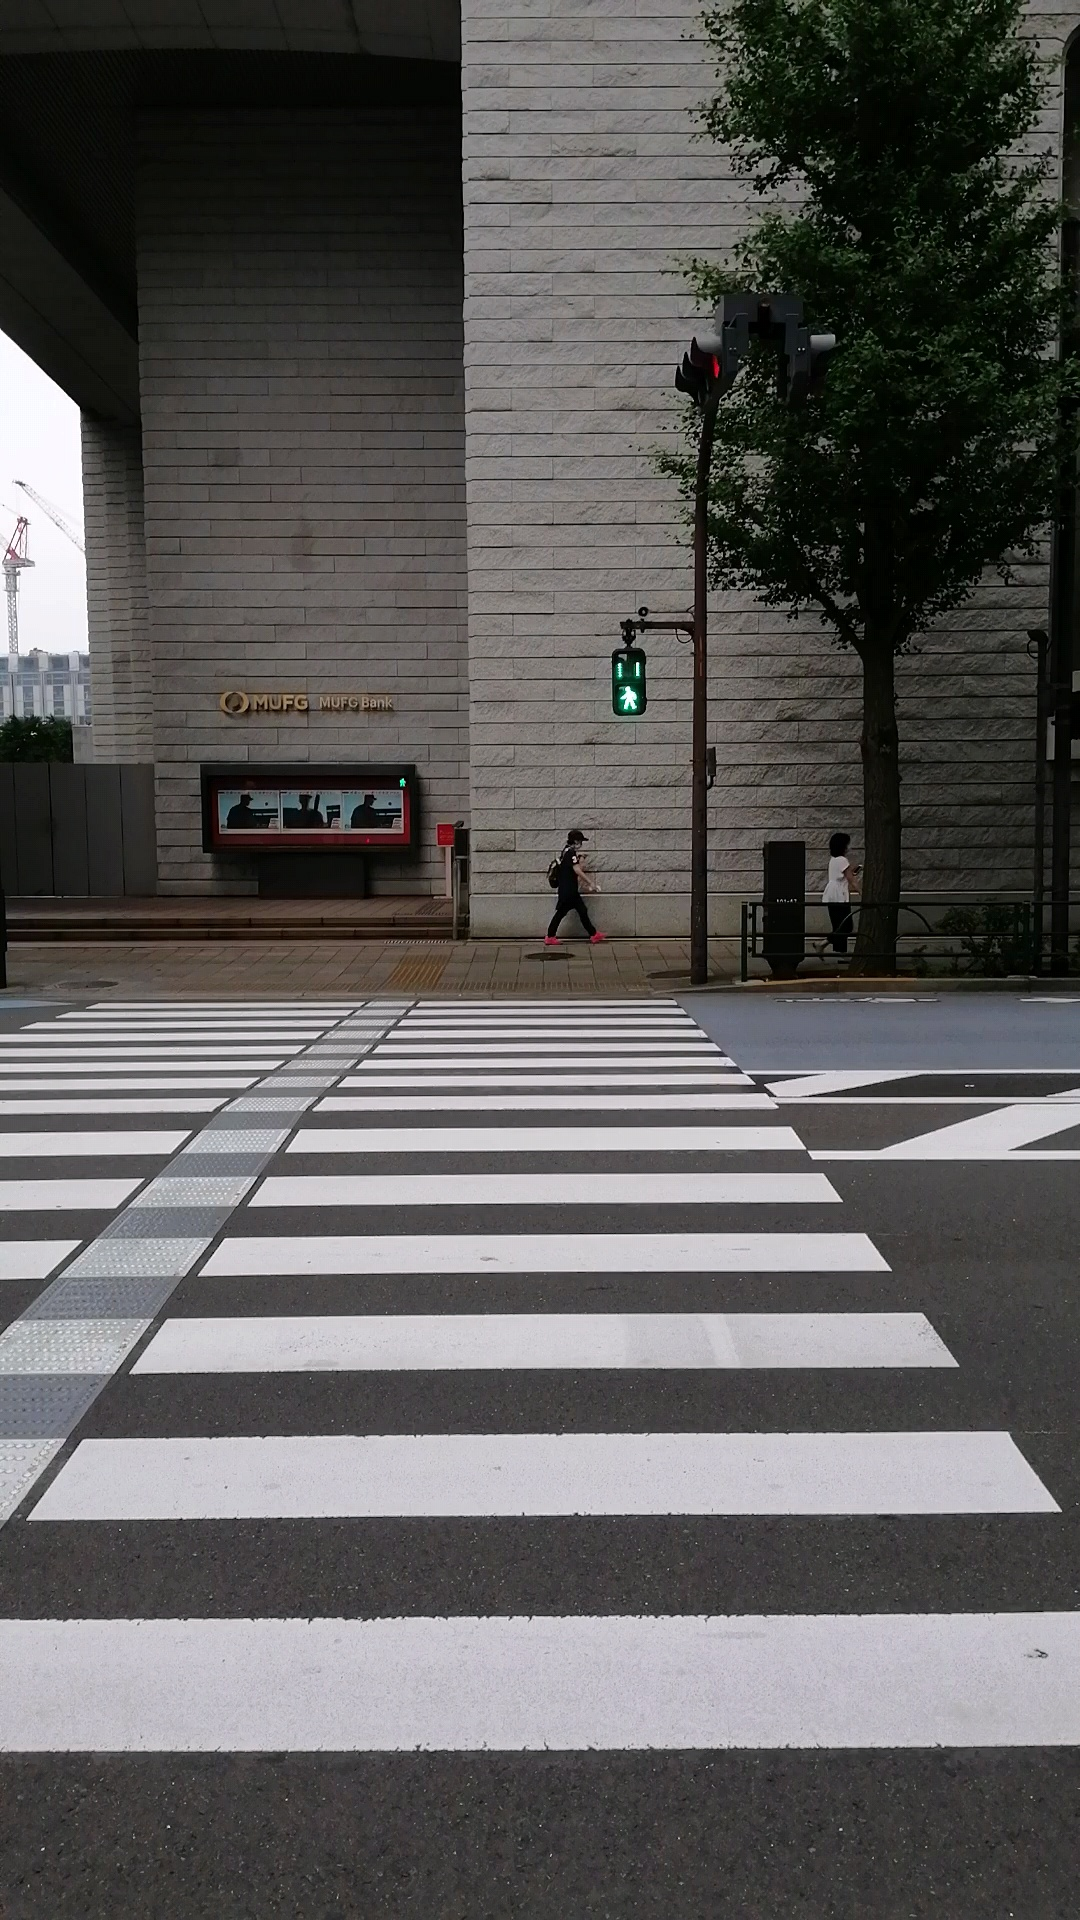green: (609, 646, 647, 719)
